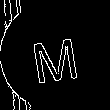M_N: (28, 26, 82, 84)
